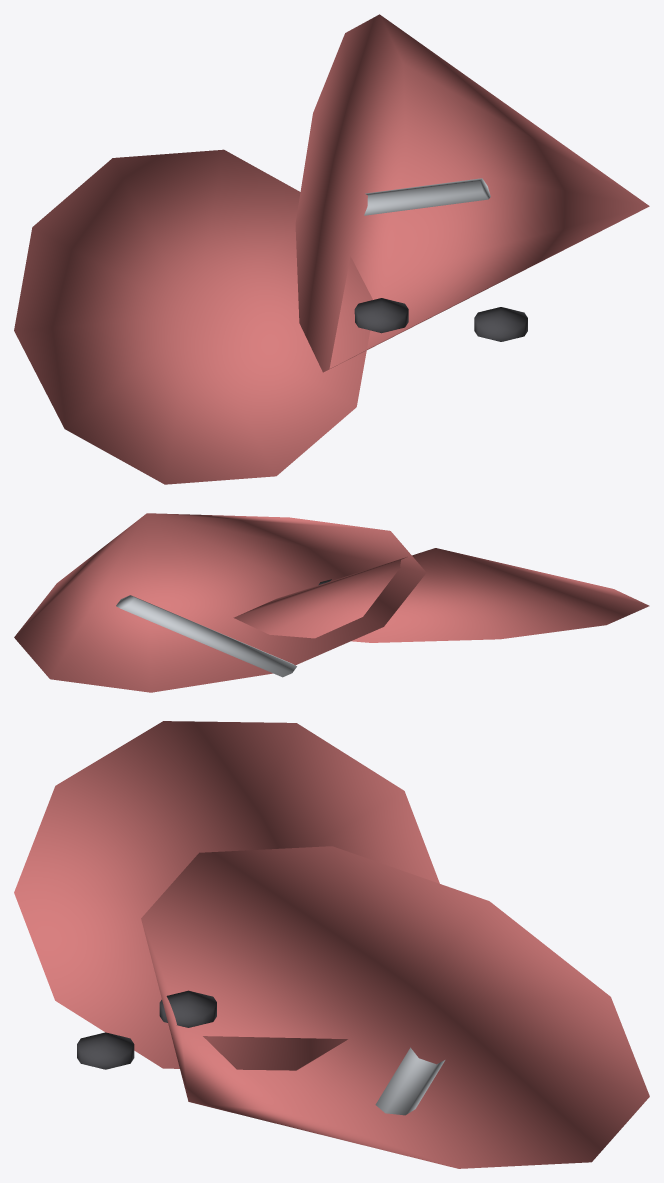
Rendered from bbq-grill-wreck.glb.
3 views of the same model, one above another, from view 1: azimuth 30°, elevation 25°; view 2: azimuth 150°, elevation 25°; view 3: azimuth 270°, elevation 25° (orthographic). The views are drawn at different scales.
Parts seen in each view (by area): view 1: world; view 2: world; view 3: world.
Part boxes in pixels (bbox=[...]): world: bbox=[14, 14, 649, 484]; world: bbox=[14, 513, 649, 692]; world: bbox=[14, 721, 649, 1168].
Size of the model in its own units: 1 by 0.35 by 0.8.
